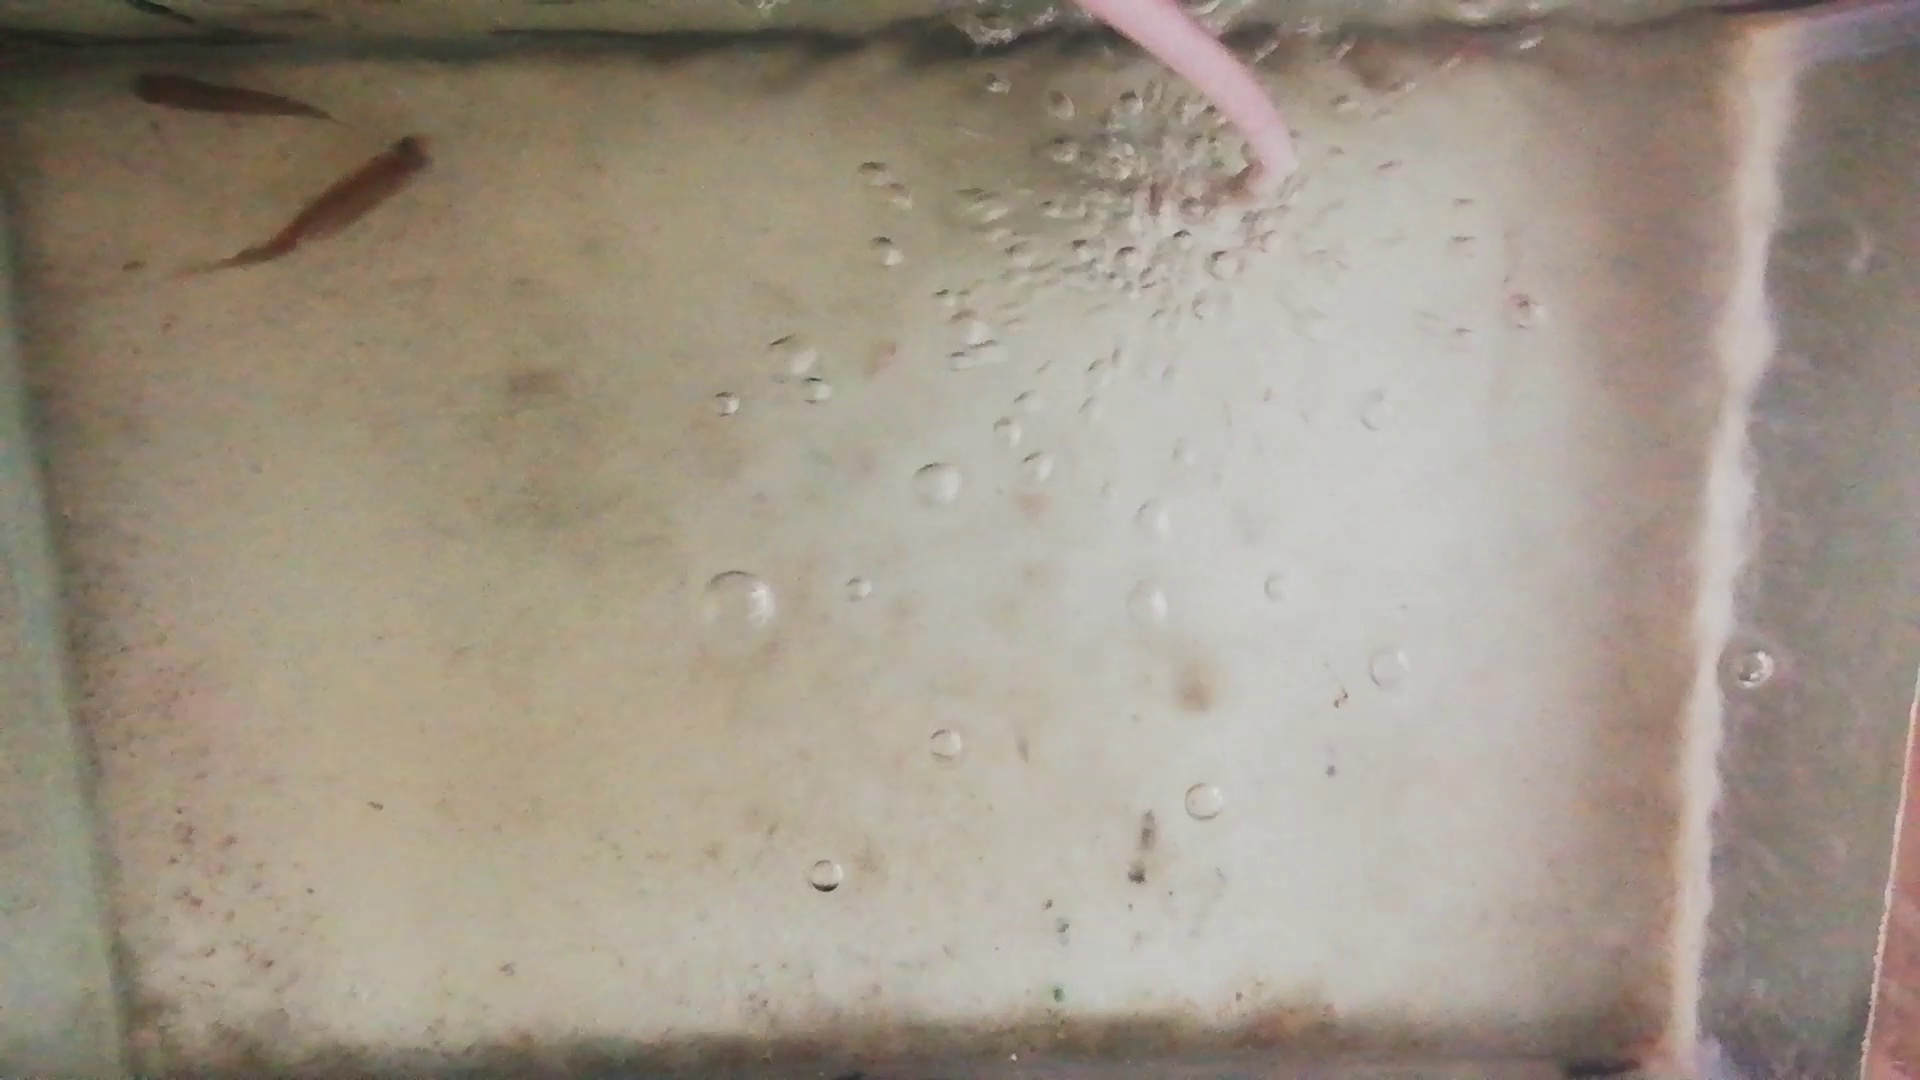fish: (232, 135, 436, 268), (128, 69, 334, 124)
